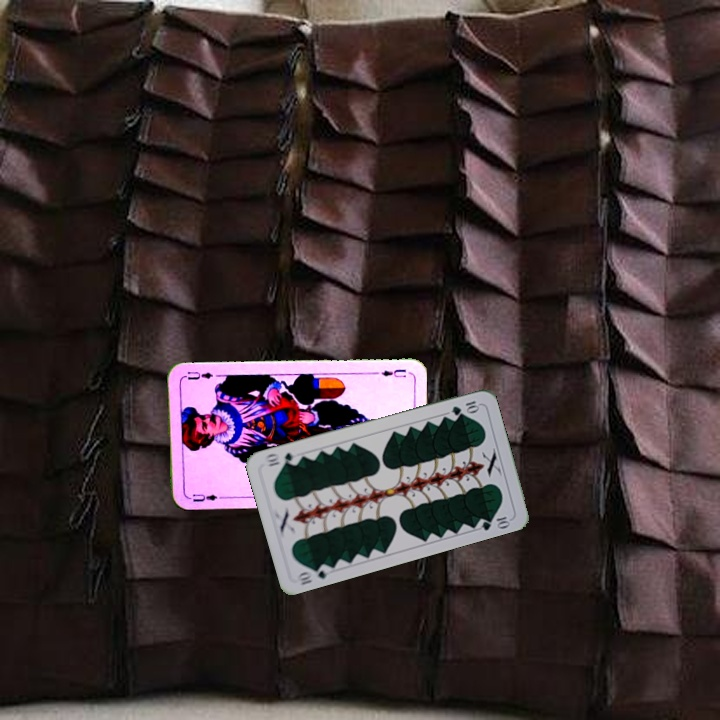EU: (189, 490, 224, 504), (377, 365, 408, 380)
G10: (292, 560, 332, 587), (448, 397, 482, 418)
